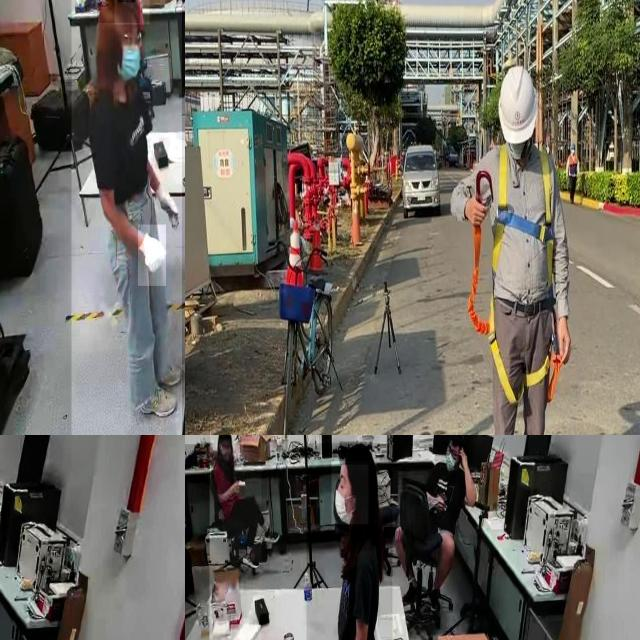Harness: (468, 227, 562, 406), (494, 146, 555, 288)
face_mask: (332, 461, 368, 524), (113, 44, 147, 85), (442, 442, 462, 472)
face_nomask: (220, 441, 232, 461)
hand_glove: (138, 224, 166, 286), (150, 183, 182, 233)
hand_noglove: (431, 492, 445, 513), (458, 444, 468, 471), (231, 478, 245, 493)
head_nohelmet: (97, 0, 140, 23), (340, 442, 372, 464), (448, 435, 467, 440), (218, 435, 231, 438)
person: (71, 0, 182, 435), (306, 443, 393, 640), (390, 439, 475, 613), (210, 435, 262, 563), (114, 0, 149, 24)
shoes: (135, 379, 179, 422), (150, 358, 182, 387)
